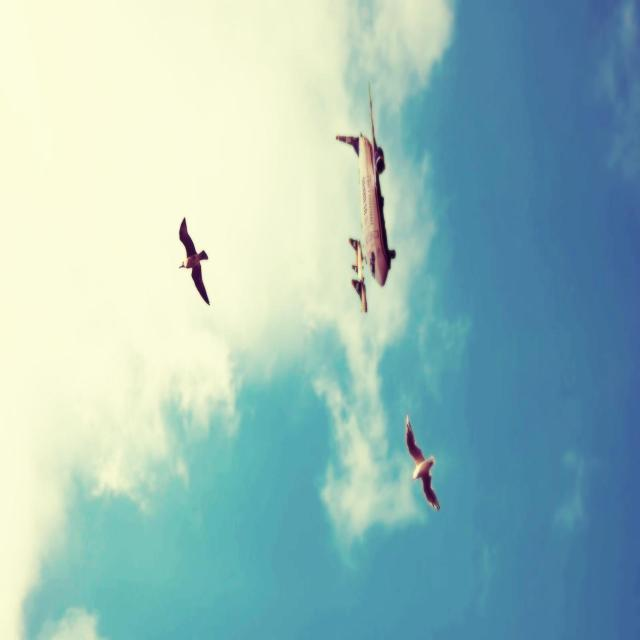airplane: (335, 79, 396, 313), (347, 236, 368, 314)
